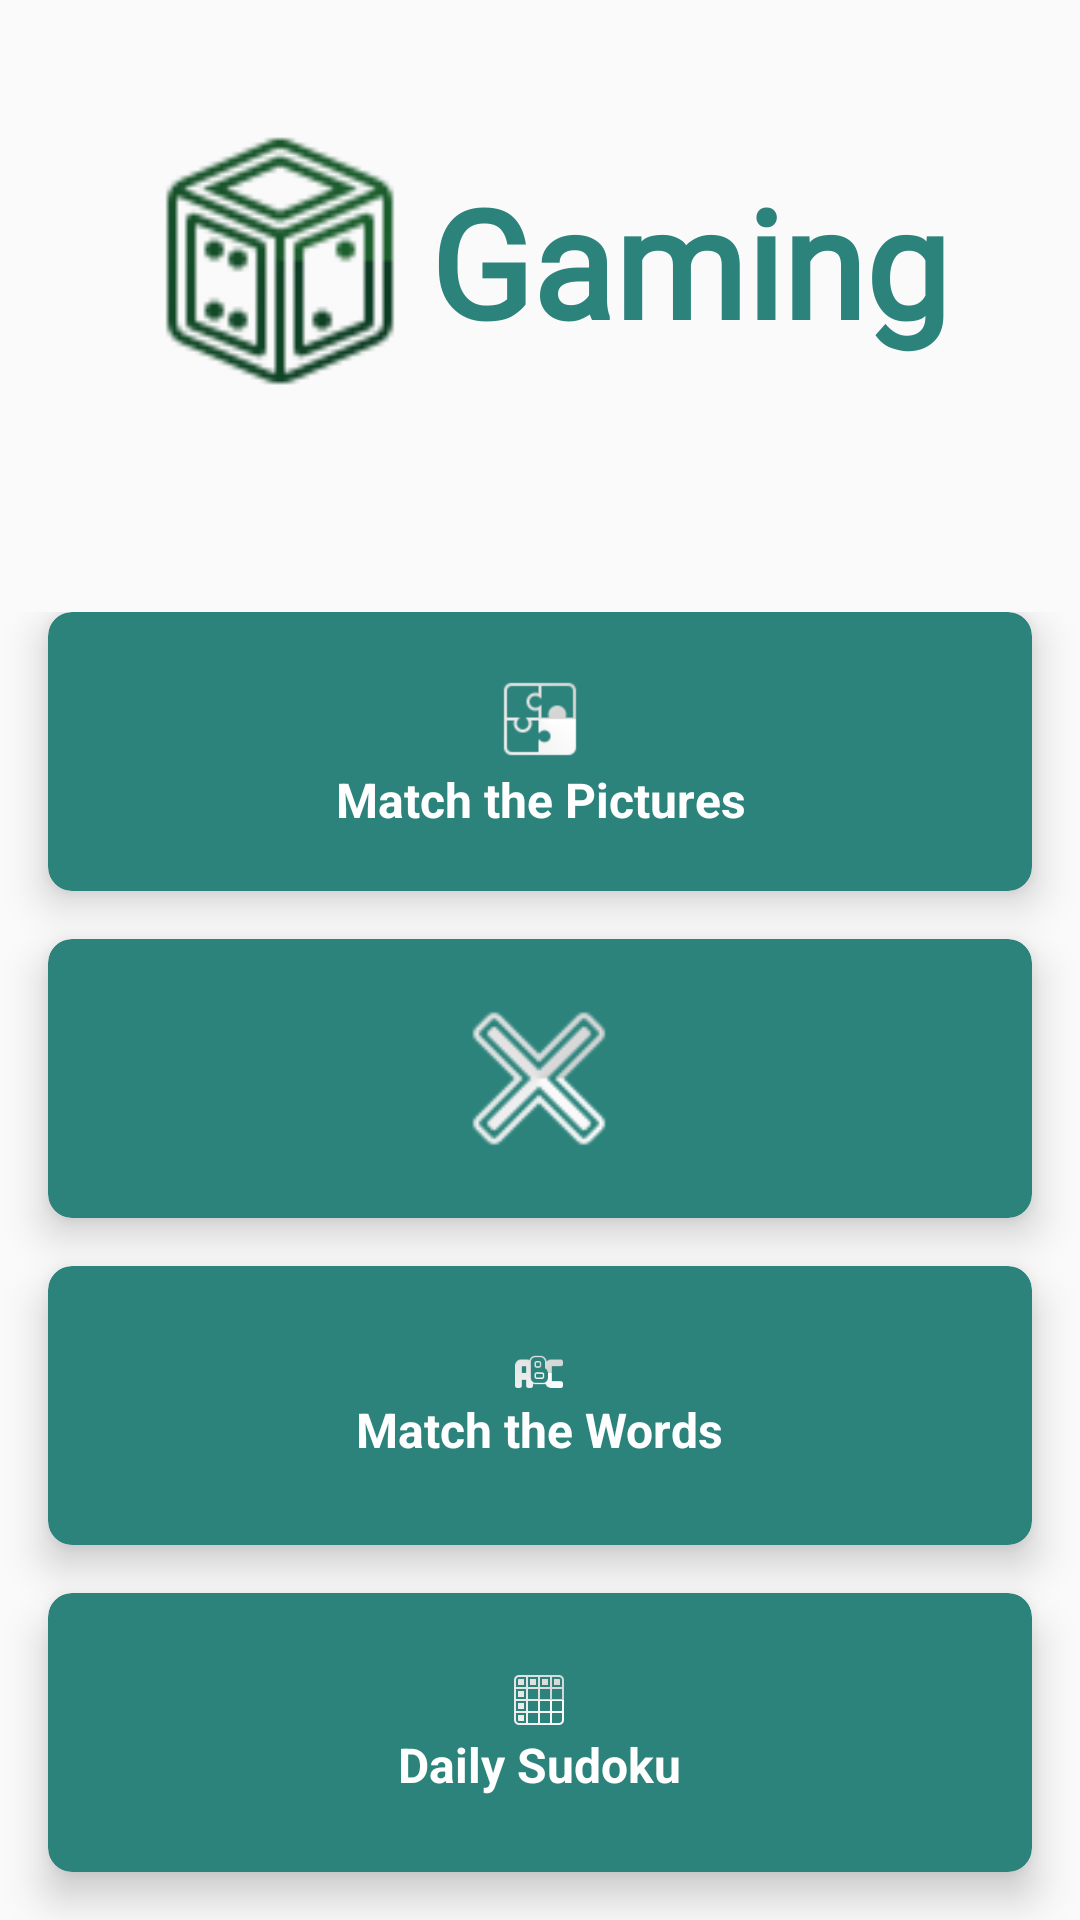

Where to tap for icons on this 1080×1920 app screen, as (x=x, y=y):
cross word: (x=539, y=1078)
picture game: (x=540, y=719)
